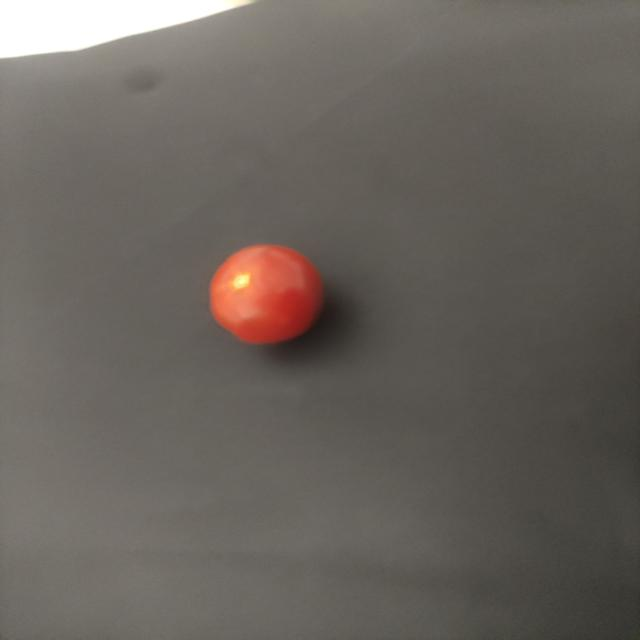kirmizi: (194, 232, 322, 349)
